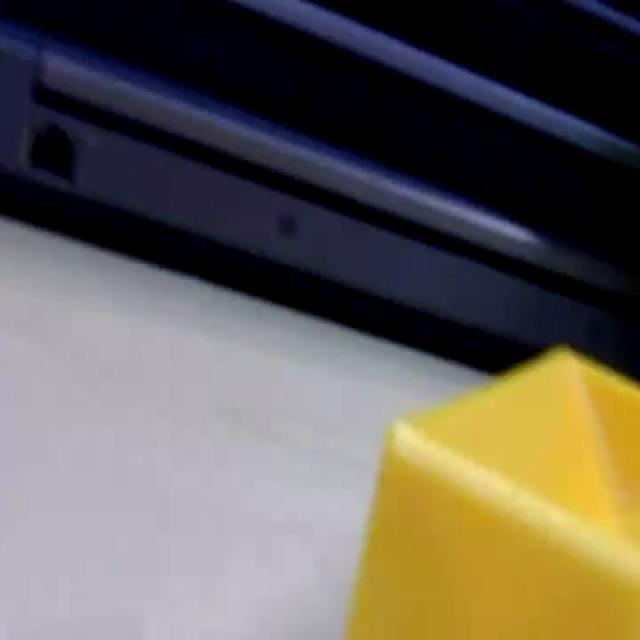yellow_block: (343, 342, 638, 638)
